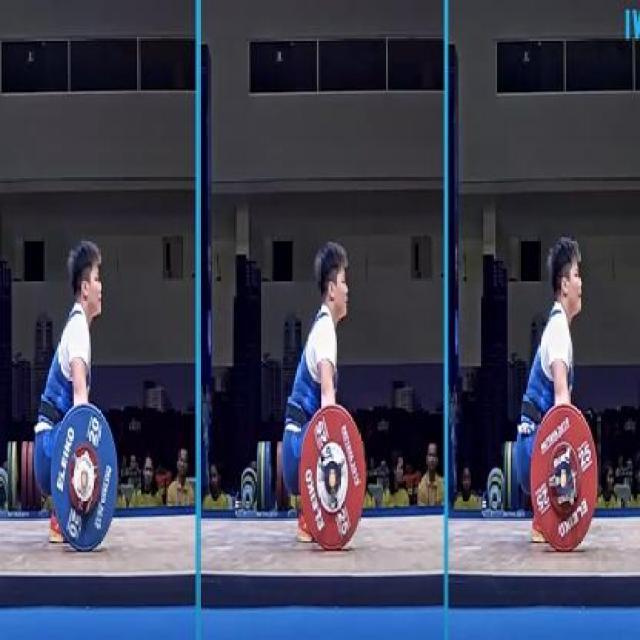Barbell: (77, 466, 91, 496), (556, 467, 570, 493), (327, 468, 338, 492)
